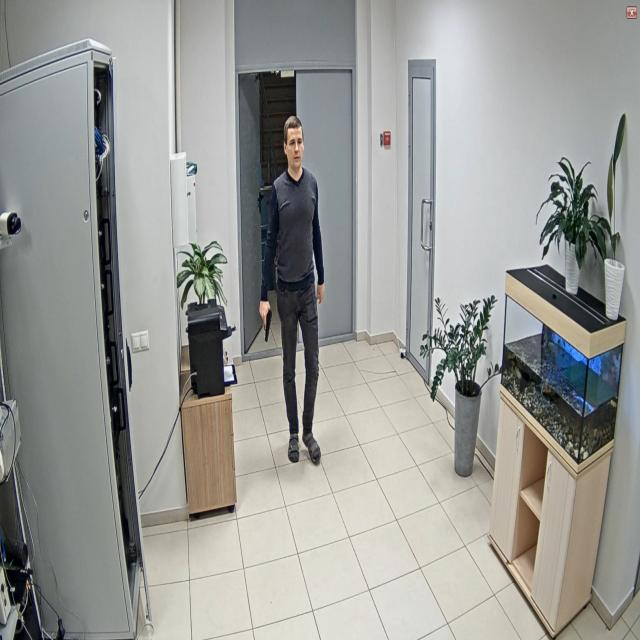-Gun: (264, 309, 272, 343)
